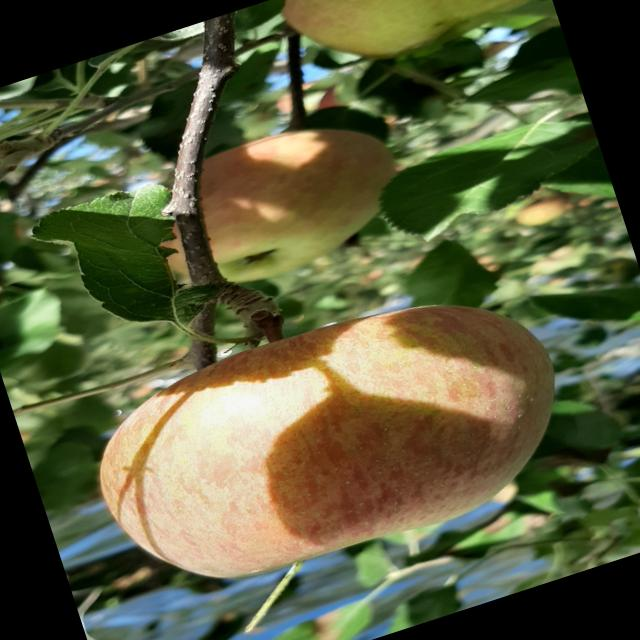fresh: (57, 252, 606, 632)
